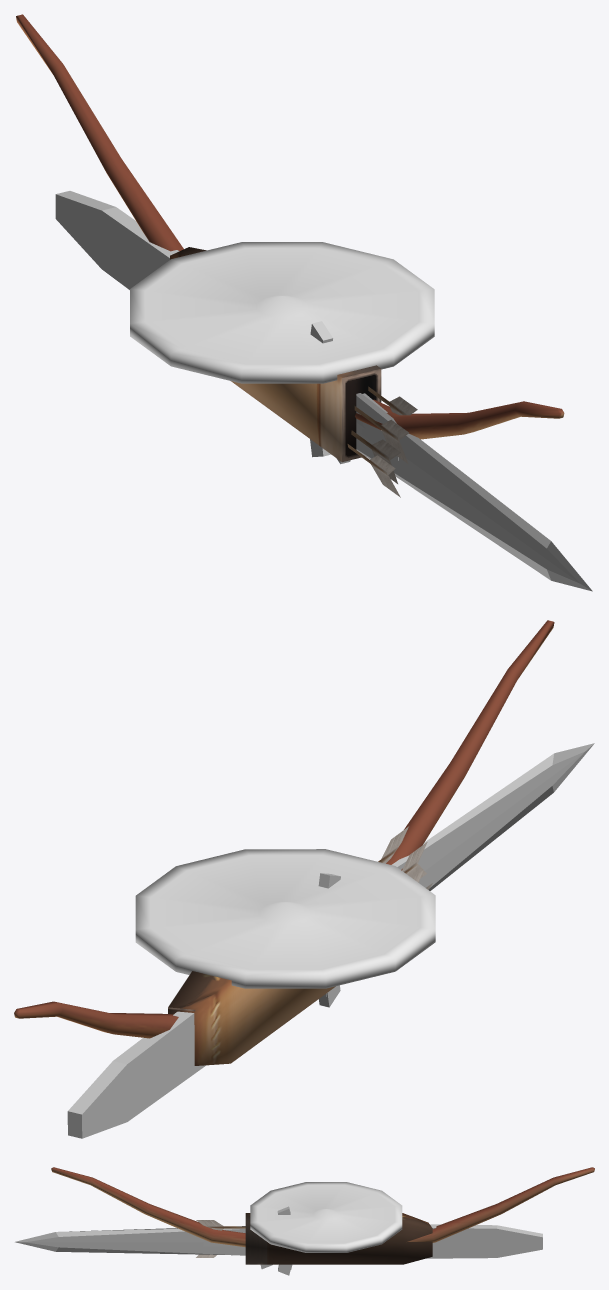
File: weapon01.fbx
3 renders of one model, top to bottom at view 1: azimuth 30°, elevation 25°; view 2: azimuth 150°, elevation 25°; view 3: azimuth 270°, elevation 25°, orthographic. The views are drawn at different scales.
Visible parts, largest first — view 1: shield01, sword01_atk, arrow_pack01, bow01, sword01_back_atk; view 2: shield01, arrow_pack01, bow01, sword01_back_atk, sword01_atk; view 3: shield01, arrow_pack01, sword01_atk, bow01, sword01_back_atk, dagger01_back.
Part boxes in pixels (left/top/right/bottom): shield01: left=130, top=242, right=434, bottom=383; sword01_atk: left=310, top=321, right=592, bottom=591; arrow_pack01: left=170, top=247, right=417, bottom=497; bow01: left=16, top=14, right=564, bottom=439; sword01_back_atk: left=55, top=191, right=179, bottom=289; shield01: left=135, top=849, right=435, bottom=988; arrow_pack01: left=168, top=826, right=432, bottom=1065; bow01: left=14, top=620, right=554, bottom=1038; sword01_back_atk: left=67, top=1011, right=205, bottom=1138; sword01_atk: left=318, top=743, right=594, bottom=1007; shield01: left=250, top=1182, right=402, bottom=1252; arrow_pack01: left=196, top=1213, right=432, bottom=1264; sword01_atk: left=15, top=1206, right=290, bottom=1275; bow01: left=51, top=1167, right=594, bottom=1247; sword01_back_atk: left=426, top=1224, right=542, bottom=1258; dagger01_back: left=203, top=1239, right=272, bottom=1269.
Size of the model in its own units: 193 by 152 by 737.
